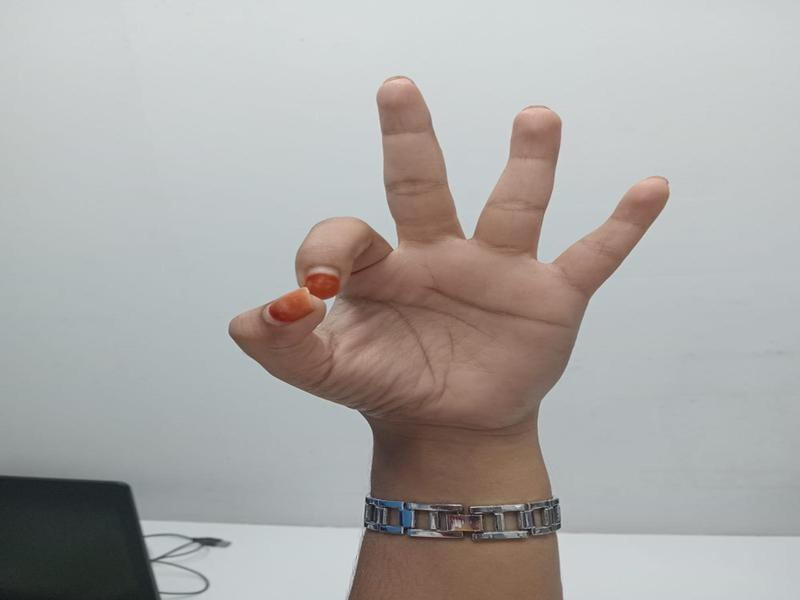UP: (211, 44, 687, 600)
